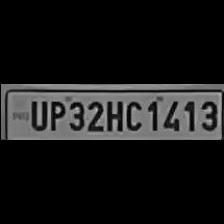1: (180, 96, 196, 132), (143, 98, 159, 132)
2: (85, 98, 103, 132)
3: (198, 96, 218, 132), (65, 98, 83, 132)
4: (160, 96, 180, 132)
C: (122, 98, 142, 132)
H: (104, 98, 122, 132)
P: (46, 98, 64, 132)
U: (26, 97, 44, 130)
